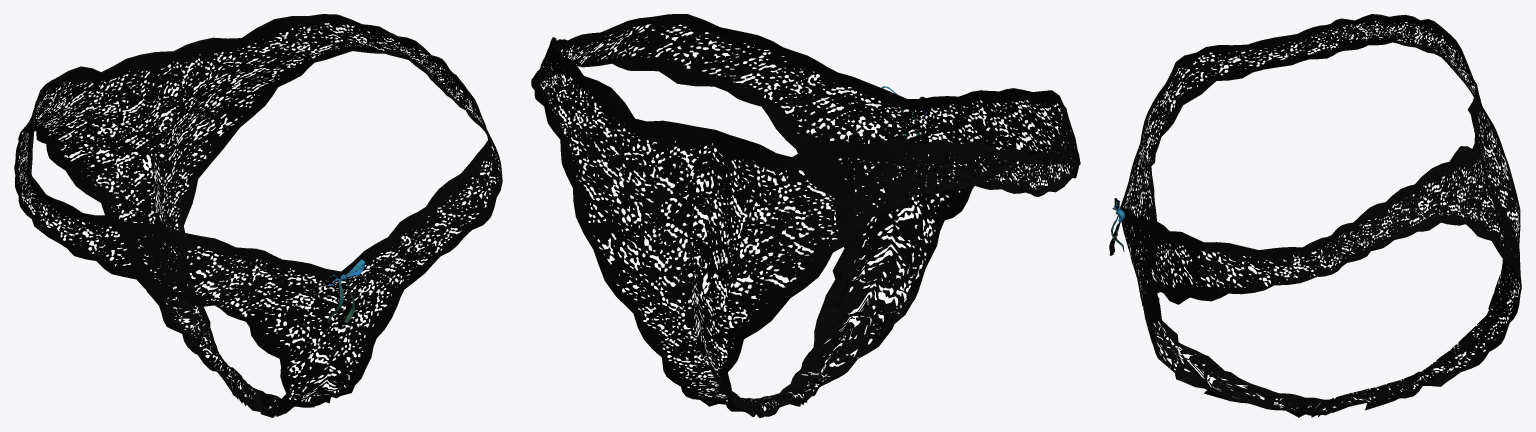
File: mhw_elvs_lace_panty.glb
3 views of the same model, side by side, from view 1: azimuth 30°, elevation 25°; view 2: azimuth 150°, elevation 25°; view 3: azimuth 270°, elevation 25° (orthographic). The views are drawn at different scales.
Parts seen in each view (by area): view 1: mhw_elvs_lace_panty; view 2: mhw_elvs_lace_panty; view 3: mhw_elvs_lace_panty.
Part boxes in pixels (x1,y1,x2,y2): mhw_elvs_lace_panty: [14, 14, 502, 417]; mhw_elvs_lace_panty: [531, 14, 1080, 417]; mhw_elvs_lace_panty: [1109, 14, 1521, 417].
Bounding box in the file's own units: 0.327 × 0.2222 × 0.2577.
Materials: 1 (1 with a texture image).
